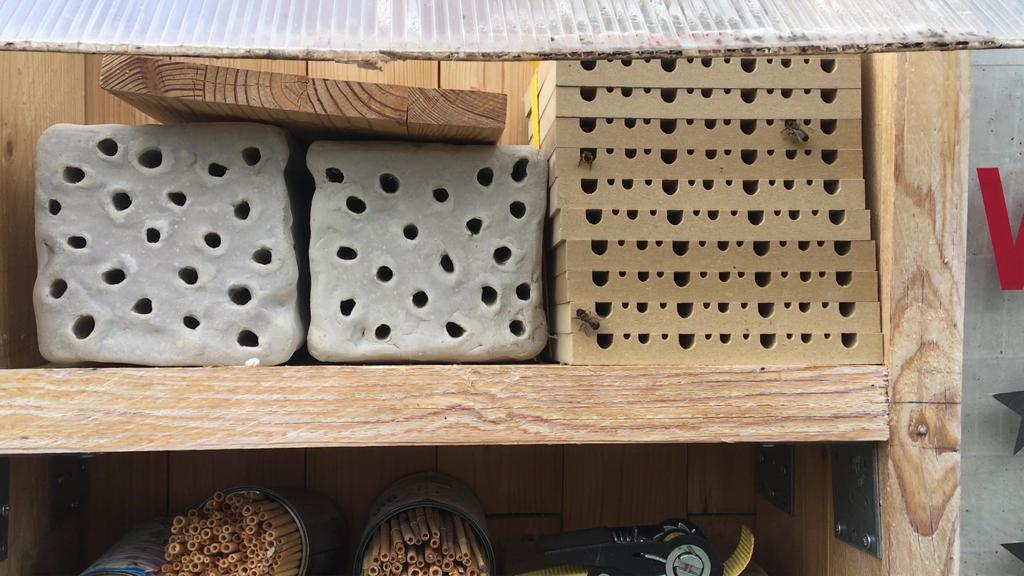bee: (574, 143, 606, 173)
